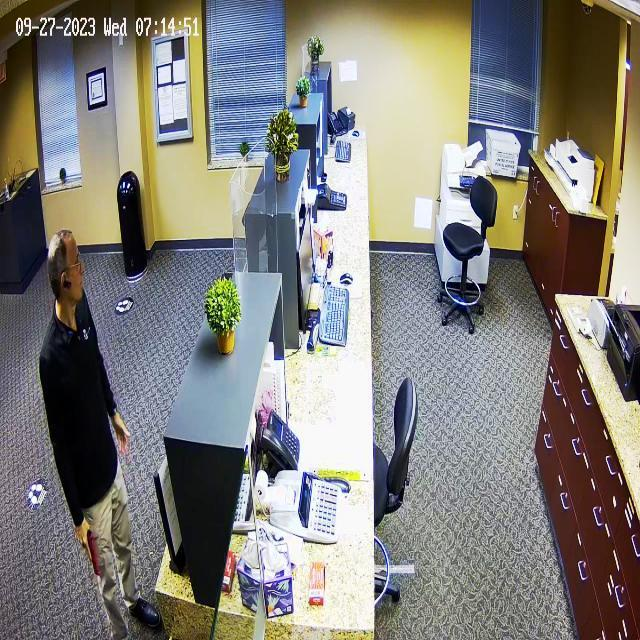Gun: (65, 518, 110, 582)
